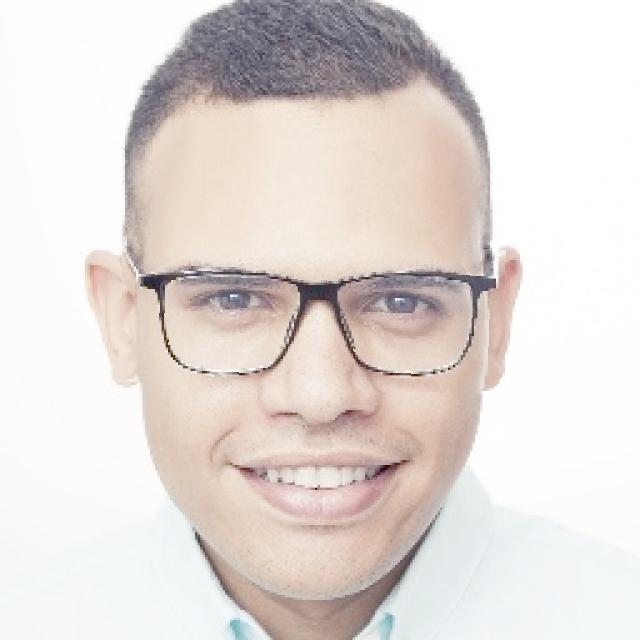glasses: (120, 240, 505, 391)
